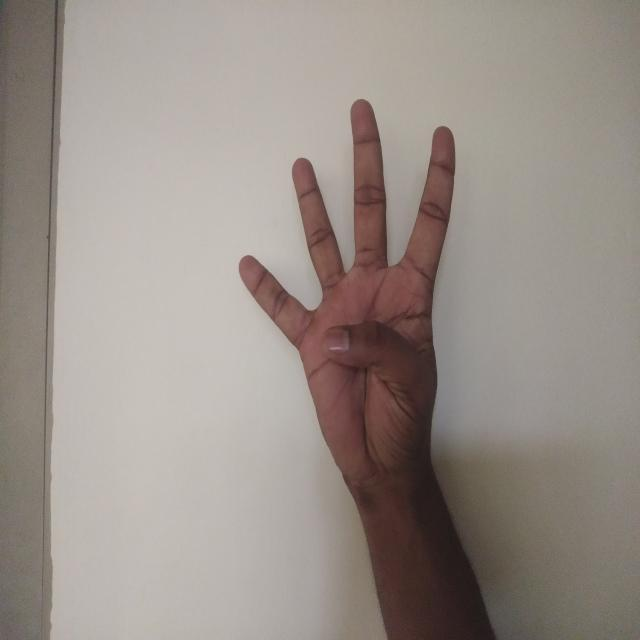Thanks: (218, 66, 491, 515)
